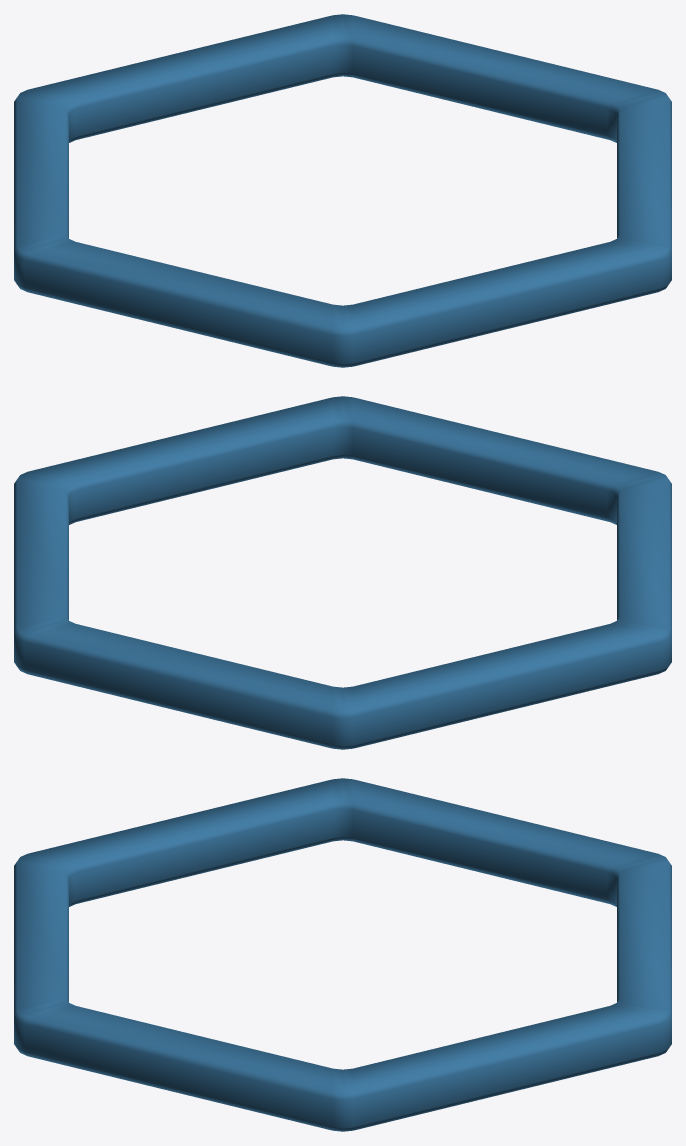
File: selected_tile_indicator.glb
3 renders of one model, top to bottom at view 1: azimuth 30°, elevation 25°; view 2: azimuth 150°, elevation 25°; view 3: azimuth 270°, elevation 25°, orthographic.
Visible parts, largest first — view 1: SelectedIndicator; view 2: SelectedIndicator; view 3: SelectedIndicator.
Boxes of the visible parts, x1,y1,x2,y2 form: SelectedIndicator: (14,14,671,367); SelectedIndicator: (14,396,671,749); SelectedIndicator: (14,778,671,1131).
Bounding box in the file's own units: 1.84 × 0.1038 × 1.61.
